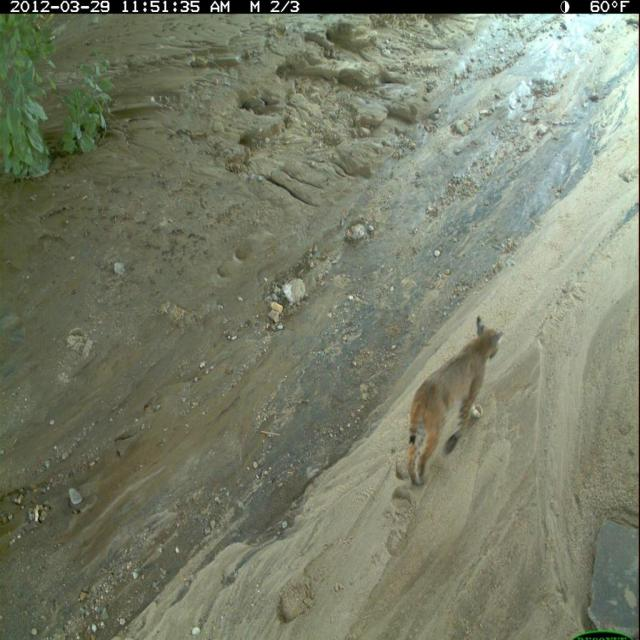bobcat: (401, 314, 509, 494)
